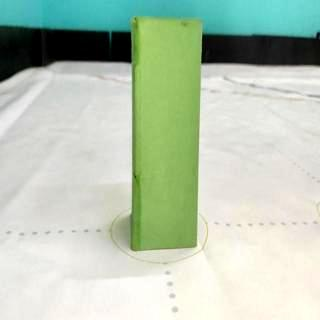greenbox: (130, 15, 200, 250)
